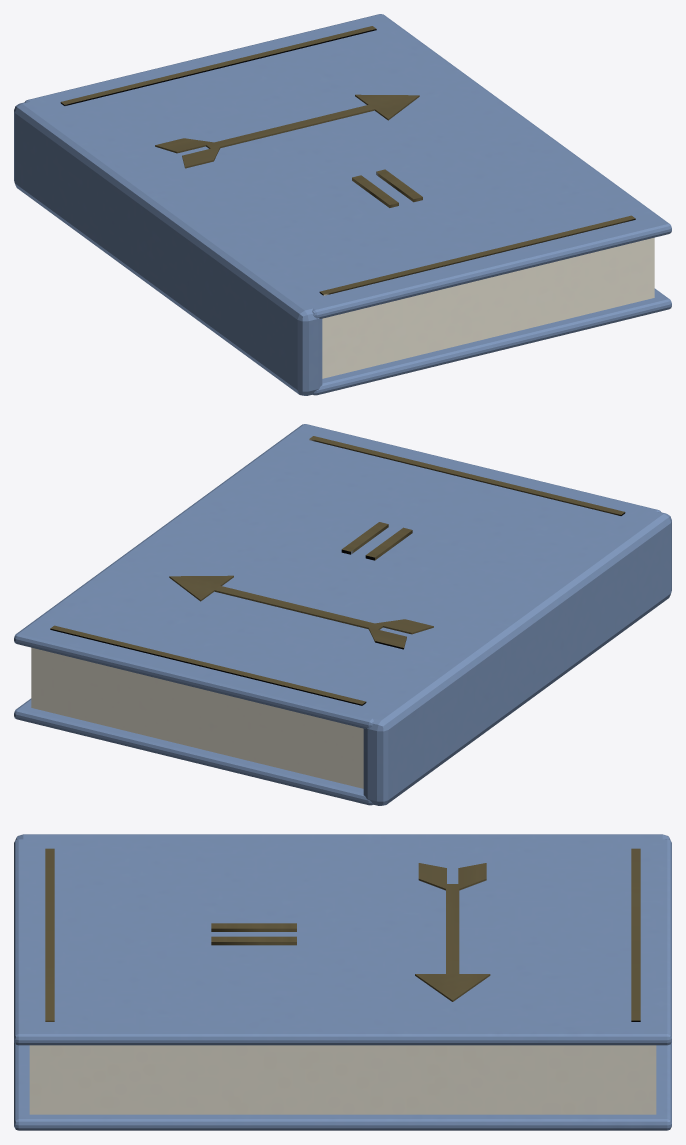
File: FL_BookArchery2.fbx
3 views of the same model, one above another, from view 1: azimuth 30°, elevation 25°; view 2: azimuth 150°, elevation 25°; view 3: azimuth 270°, elevation 25° (orthographic). The views are drawn at different scales.
Visible parts, largest first — view 1: FL_BookArchery2; view 2: FL_BookArchery2; view 3: FL_BookArchery2.
Part boxes in pixels (x1,y1,x2,y2): FL_BookArchery2: (14, 14, 671, 395); FL_BookArchery2: (14, 424, 671, 805); FL_BookArchery2: (14, 834, 671, 1130).
Bounding box in the file's own units: 0.0129 × 0.00295 × 0.0175.
